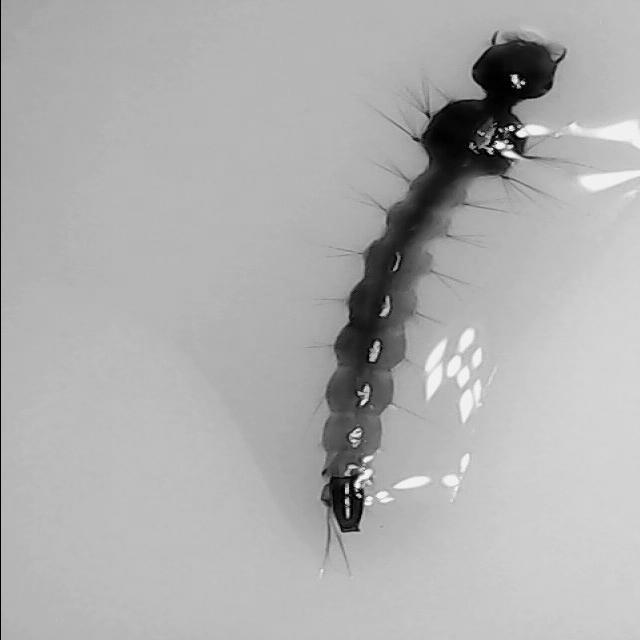larvas: (330, 50, 563, 533)
